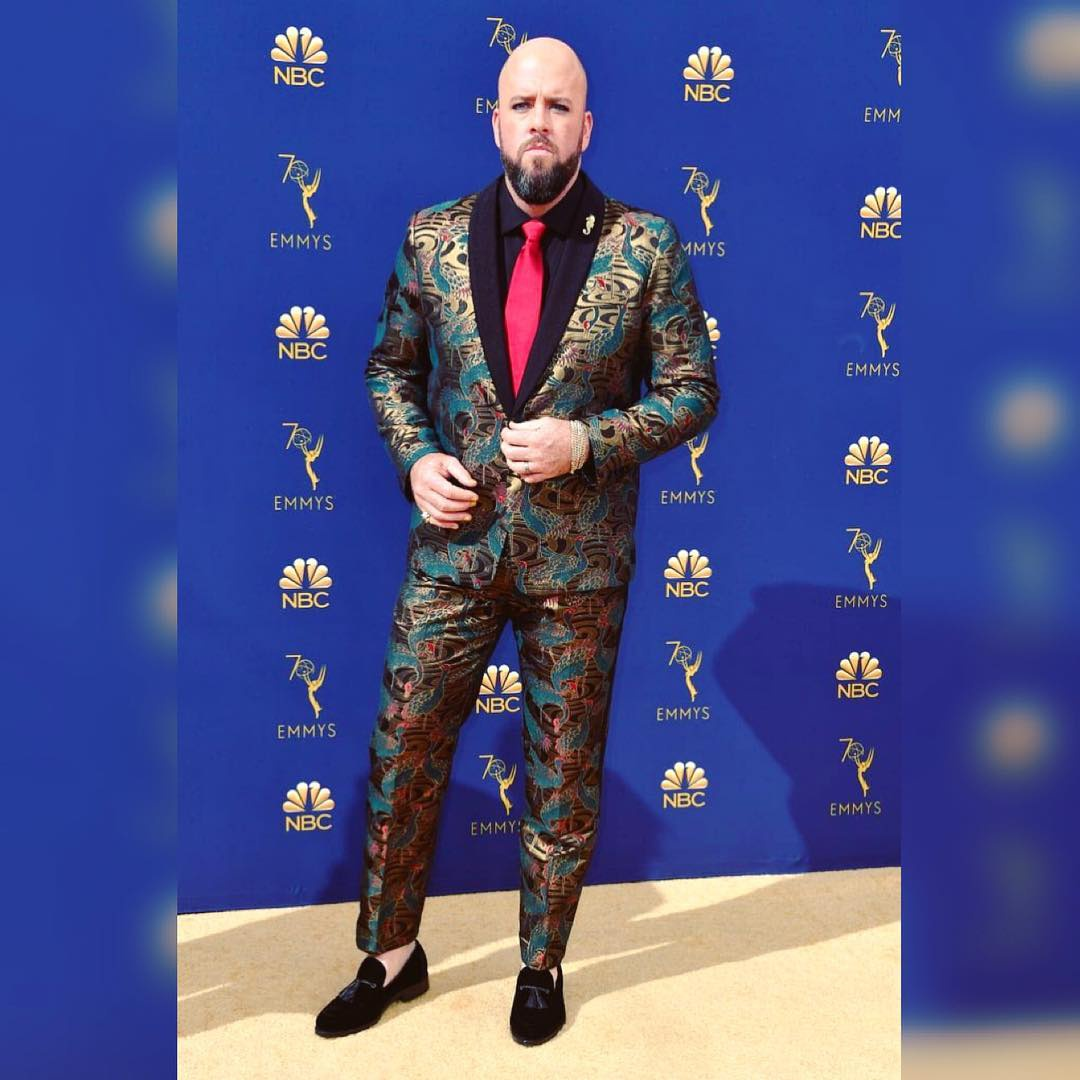hand: (505, 421, 611, 481)
